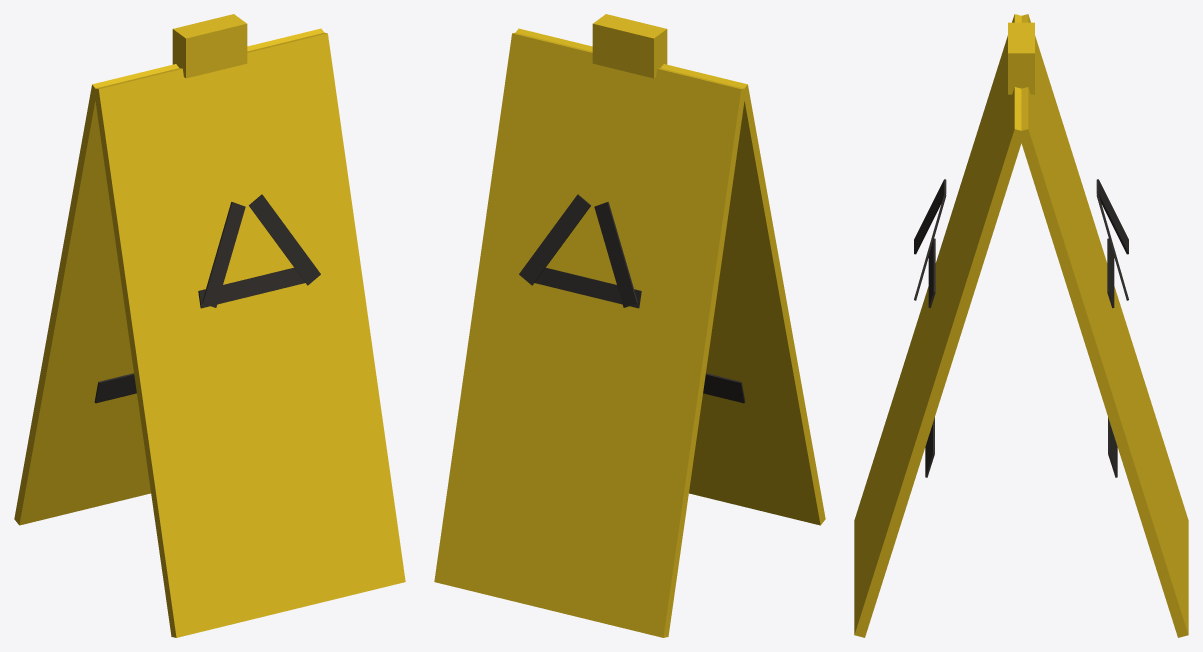
The model's file is SM_80s_WetFloorSign.glb.
3 renders of one model, left to right at view 1: azimuth 30°, elevation 25°; view 2: azimuth 150°, elevation 25°; view 3: azimuth 270°, elevation 25°, orthographic. The views are drawn at different scales.
Visible parts, largest first — view 1: SM_80s_WetFloorSign; view 2: SM_80s_WetFloorSign; view 3: SM_80s_WetFloorSign.
Boxes of the visible parts, x1,y1,x2,y2 form: SM_80s_WetFloorSign: (14,14,405,637); SM_80s_WetFloorSign: (434,14,825,637); SM_80s_WetFloorSign: (854,14,1188,637).
Size of the model in its own units: 0.396 by 0.8702 by 0.4857.
